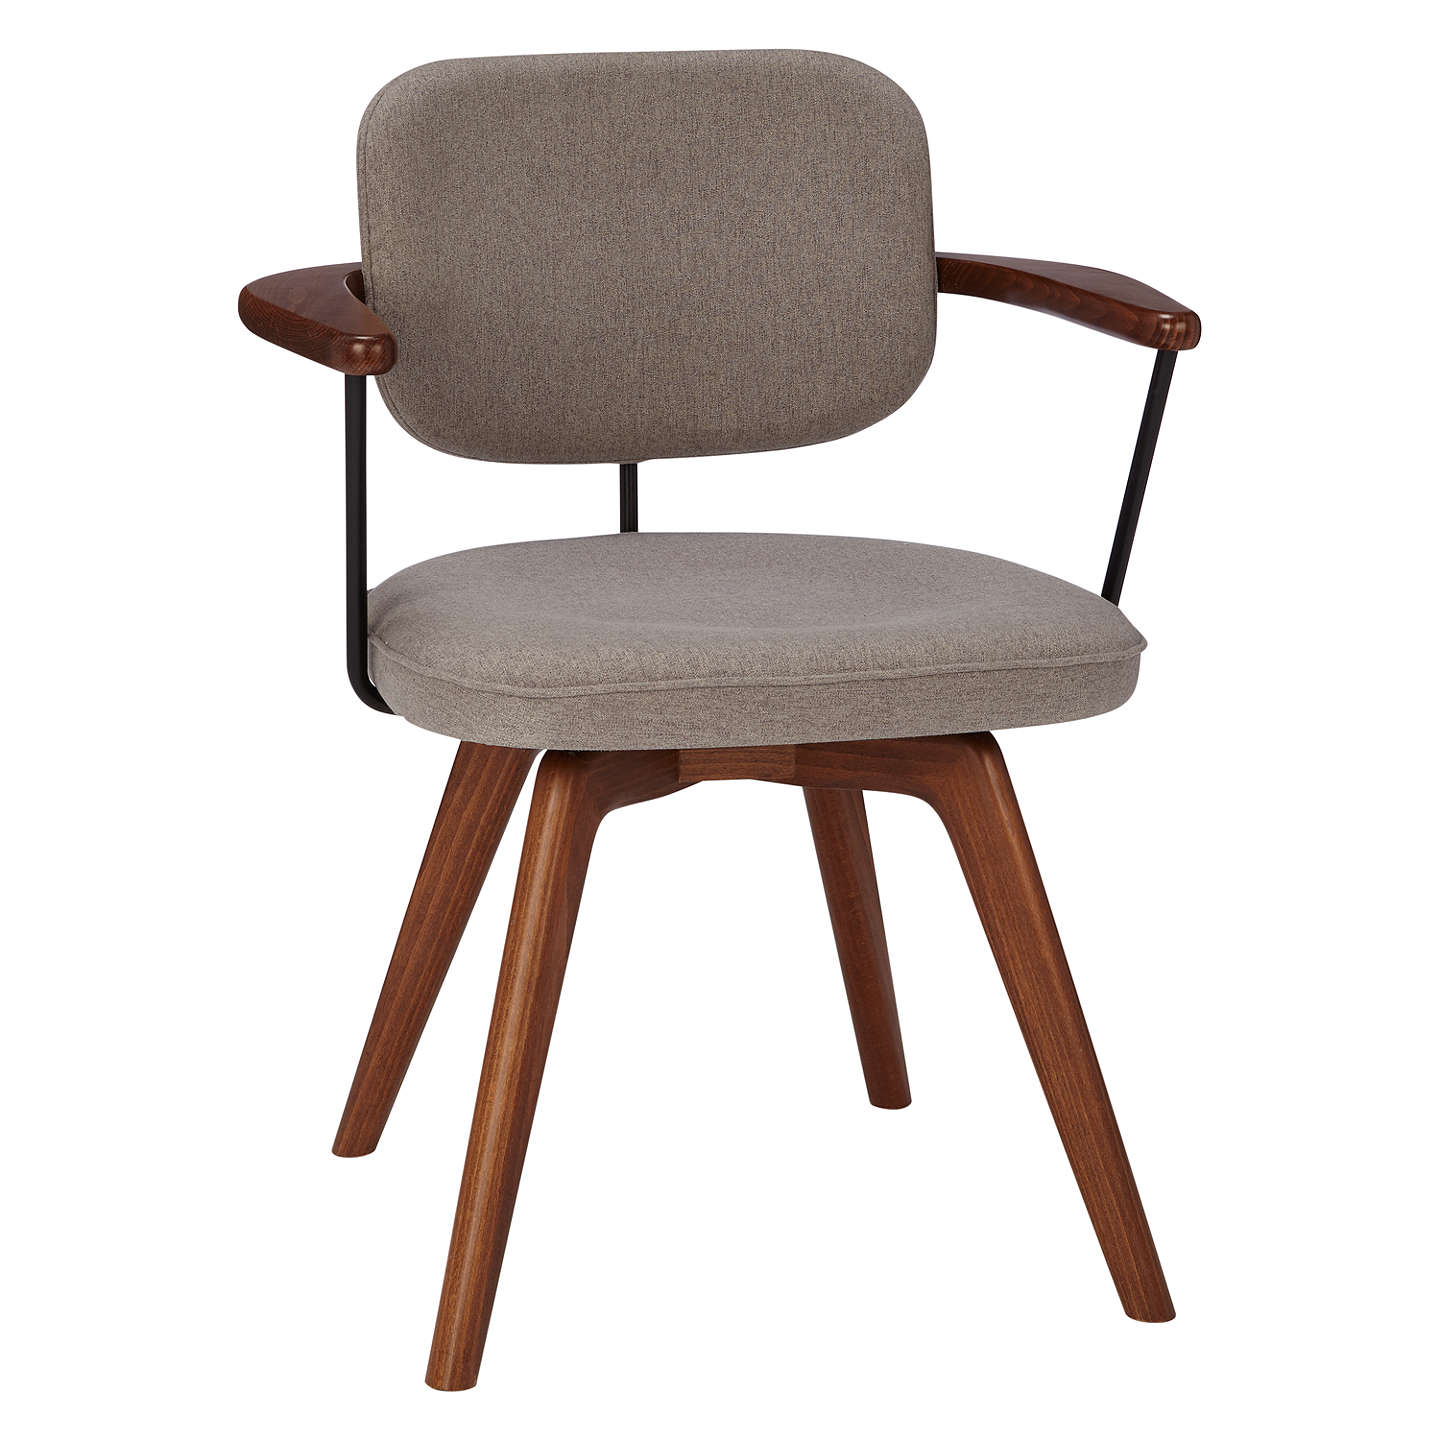chairs: (196, 47, 1203, 1402)
